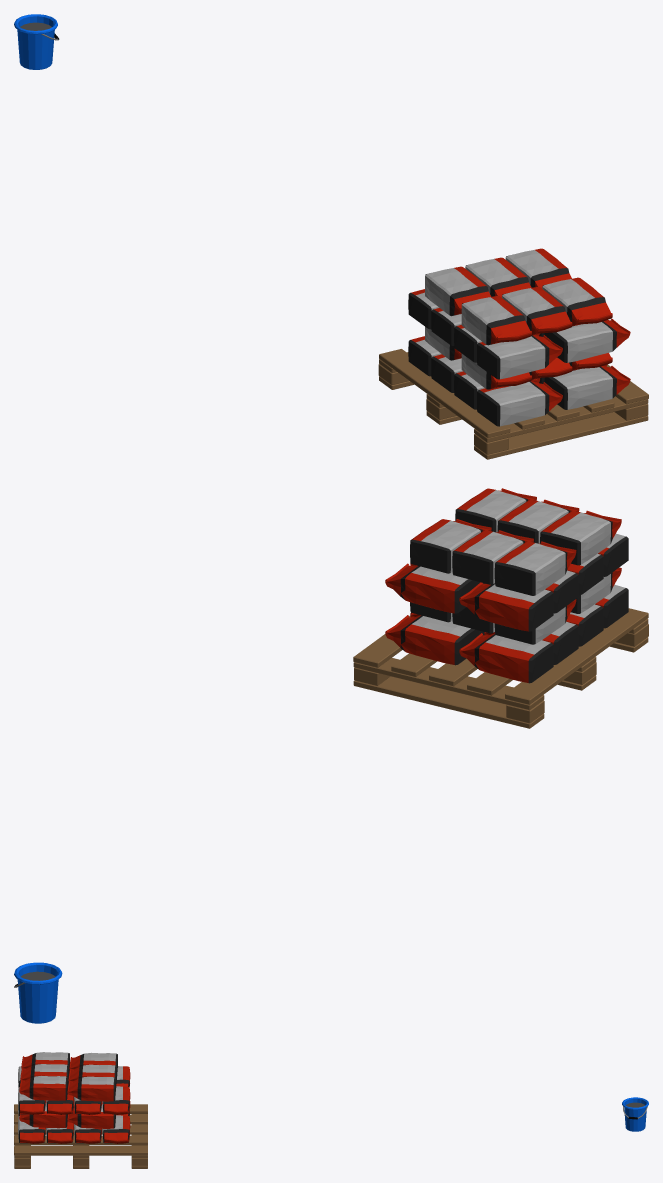
3 renders of one model, top to bottom at view 1: azimuth 30°, elevation 25°; view 2: azimuth 150°, elevation 25°; view 3: azimuth 270°, elevation 25°, orthographic. The views are drawn at different scales.
Parts seen in each view (by area): view 1: Zement_Plattte.001, Zement_Plattte, Bucket_water; view 2: Zement_Plattte.001, Zement_Plattte, Bucket_water; view 3: Zement_Plattte.001, Zement_Plattte, Bucket_water.
Part boxes in pixels (x1,y1,x2,y2): Zement_Plattte.001: [408, 248, 630, 426]; Zement_Plattte: [378, 349, 648, 459]; Bucket_water: [14, 14, 59, 69]; Zement_Plattte.001: [385, 488, 628, 683]; Zement_Plattte: [353, 608, 648, 728]; Bucket_water: [14, 962, 62, 1023]; Zement_Plattte.001: [18, 1052, 130, 1143]; Zement_Plattte: [14, 1104, 147, 1168]; Bucket_water: [622, 1097, 648, 1131].
Bounding box in the file's own units: 6.81 × 4.88 × 37.52.
